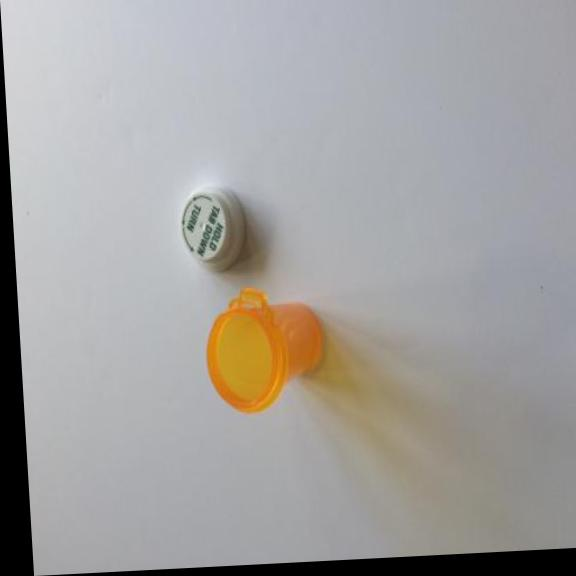Plastik: (196, 276, 331, 420), (169, 178, 255, 277)
